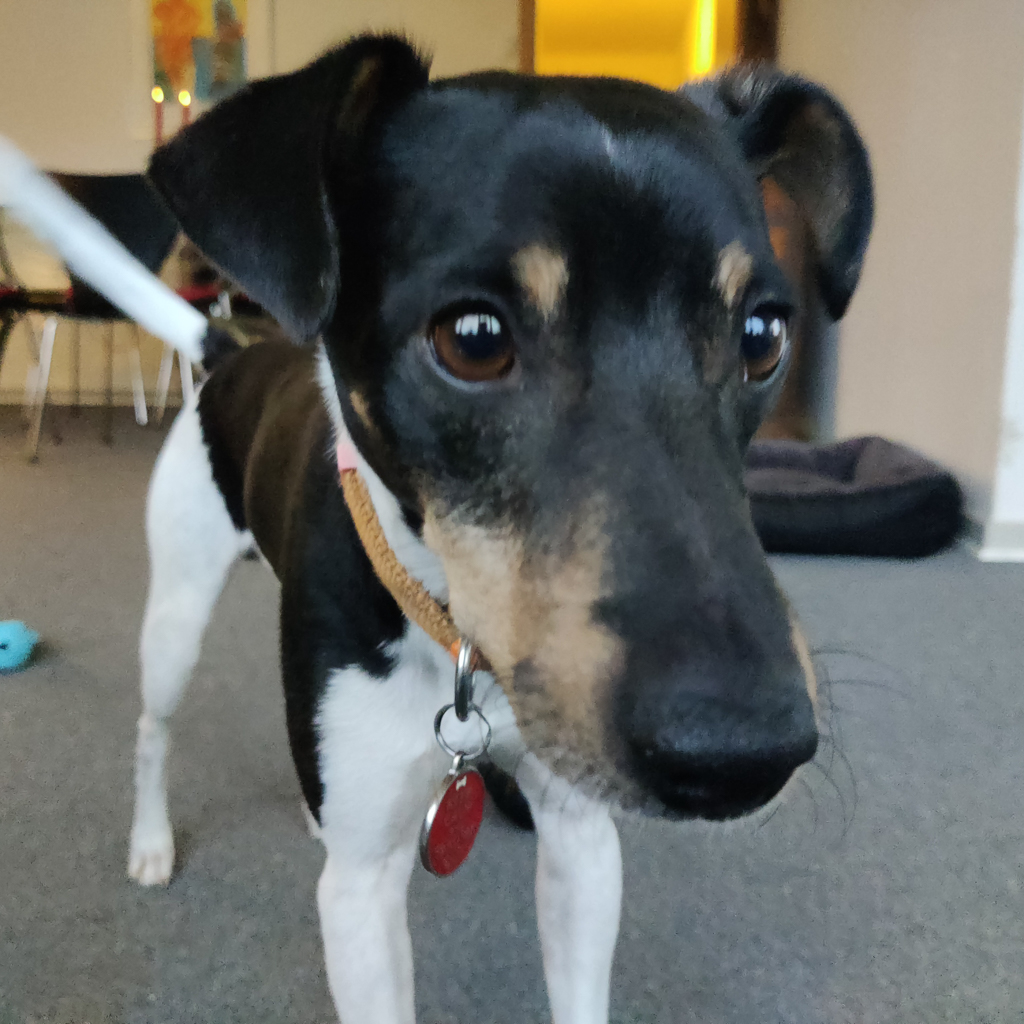Dog: (0, 23, 878, 1024)
